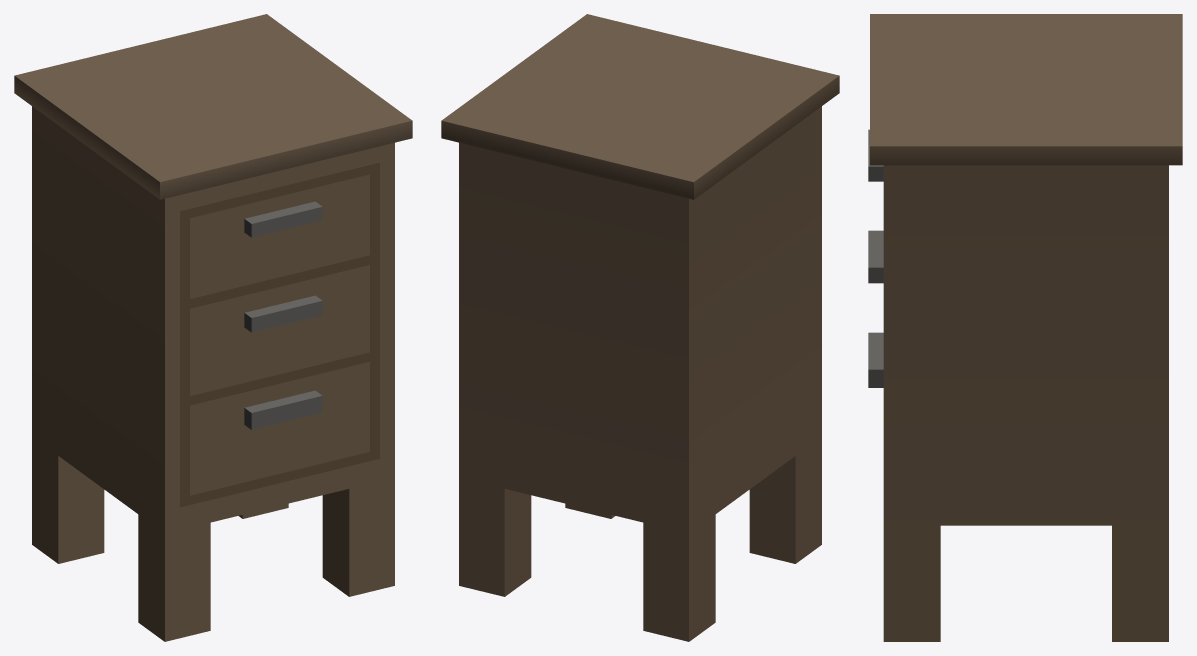
Rendered from SD_Prop_Drawers_01.fbx.
3 renders of one model, left to right at view 1: azimuth 30°, elevation 25°; view 2: azimuth 150°, elevation 25°; view 3: azimuth 270°, elevation 25°, orthographic. The views are drawn at different scales.
Visible parts, largest first — view 1: SD_Prop_Drawers_01; view 2: SD_Prop_Drawers_01; view 3: SD_Prop_Drawers_01.
Boxes of the visible parts, x1,y1,x2,y2 form: SD_Prop_Drawers_01: (14,14,412,641); SD_Prop_Drawers_01: (441,14,839,641); SD_Prop_Drawers_01: (868,14,1182,641).
Bounding box in the file's own units: 0.7577 × 1.34 × 0.7617.
